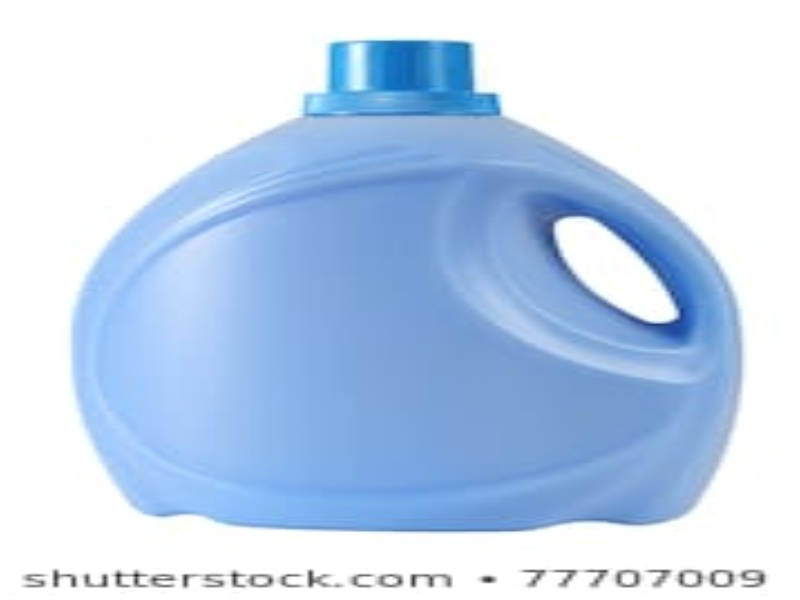bottle-cap: (299, 38, 502, 118)
detergent-bottle: (59, 35, 747, 533)
